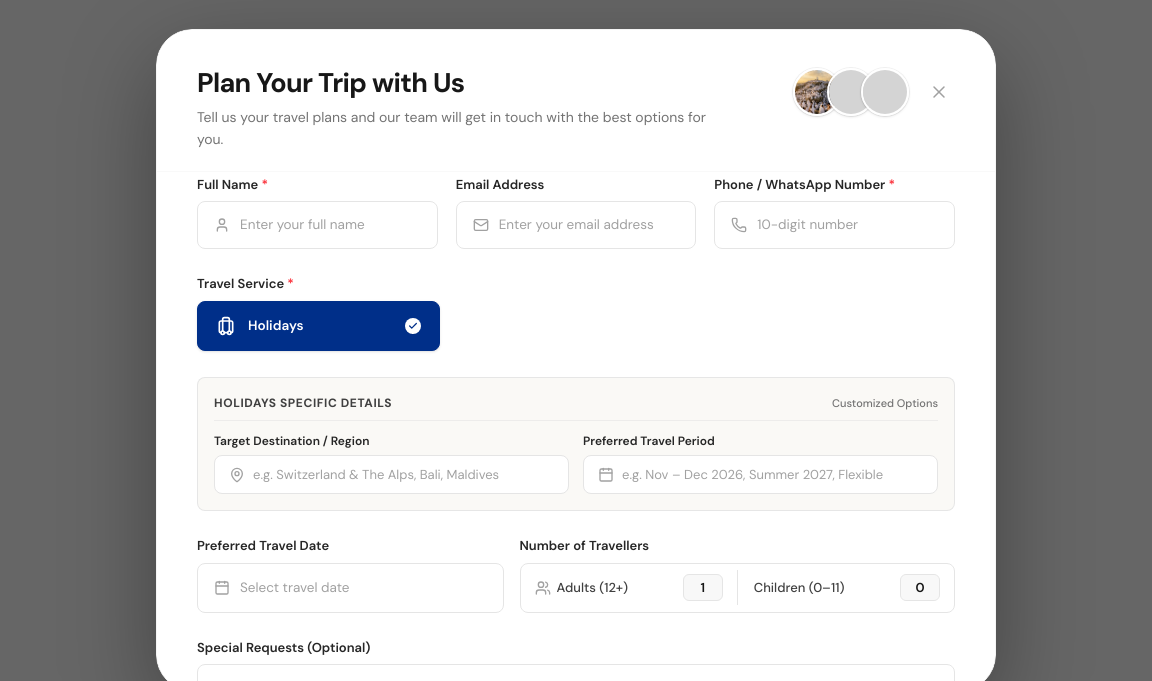
Scenario: public capture › rejects malformed success payloads instead of inventing a reference
Step 1. Type "  Ahmed Ali  " into the field labelled "Full Name *" → (330, 225), box x1=240 y1=216 x2=421 y2=234
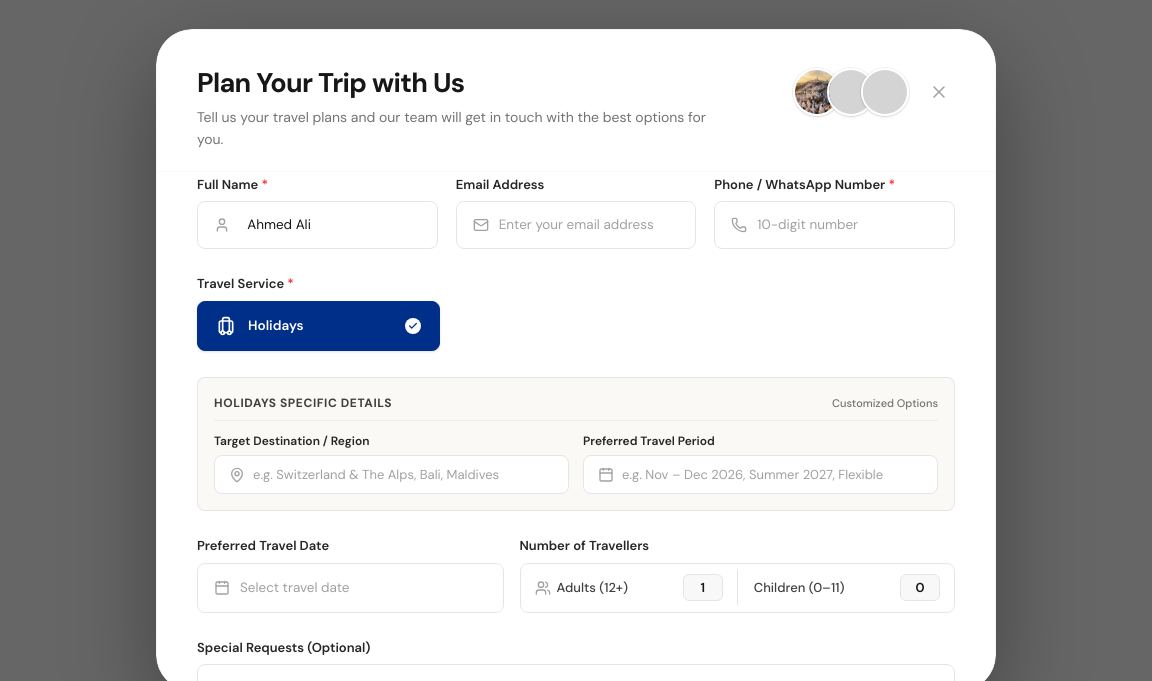
Step 2. Type "9876543210" into the field labelled "Phone / WhatsApp Number *" → (848, 225), box x1=757 y1=216 x2=938 y2=234
(page scrolled)
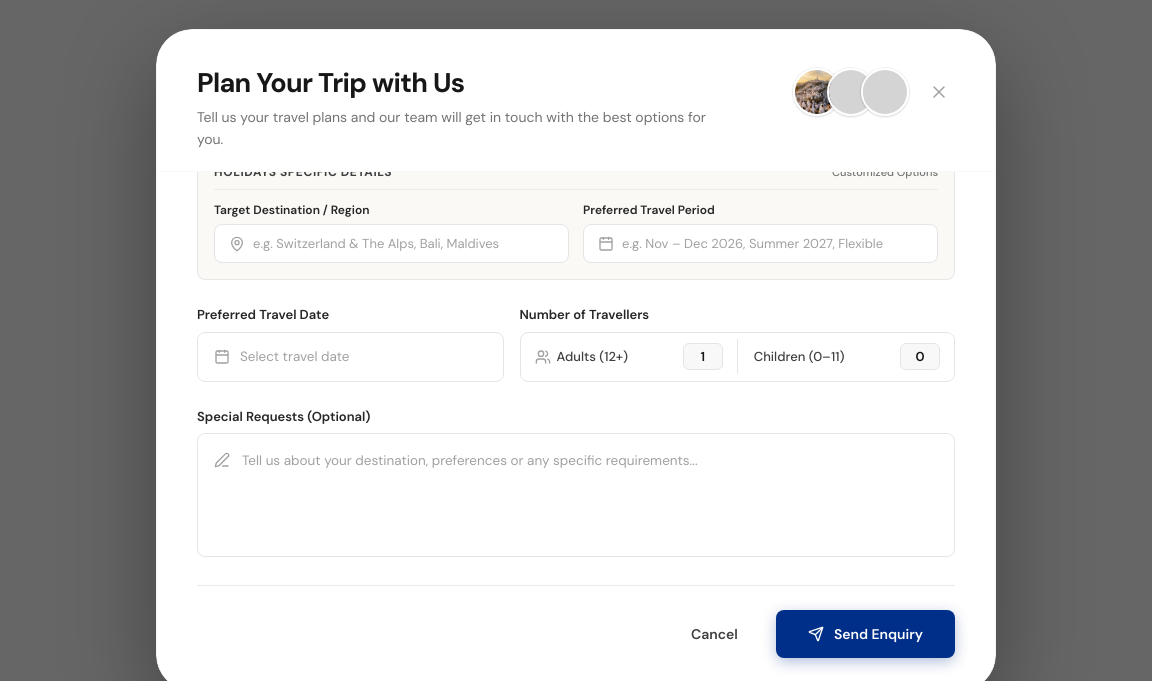
Step 3. Click the button with aria-label "Submit Travel Enquiry" → (865, 634), box x1=776 y1=610 x2=955 y2=658
(page scrolled)
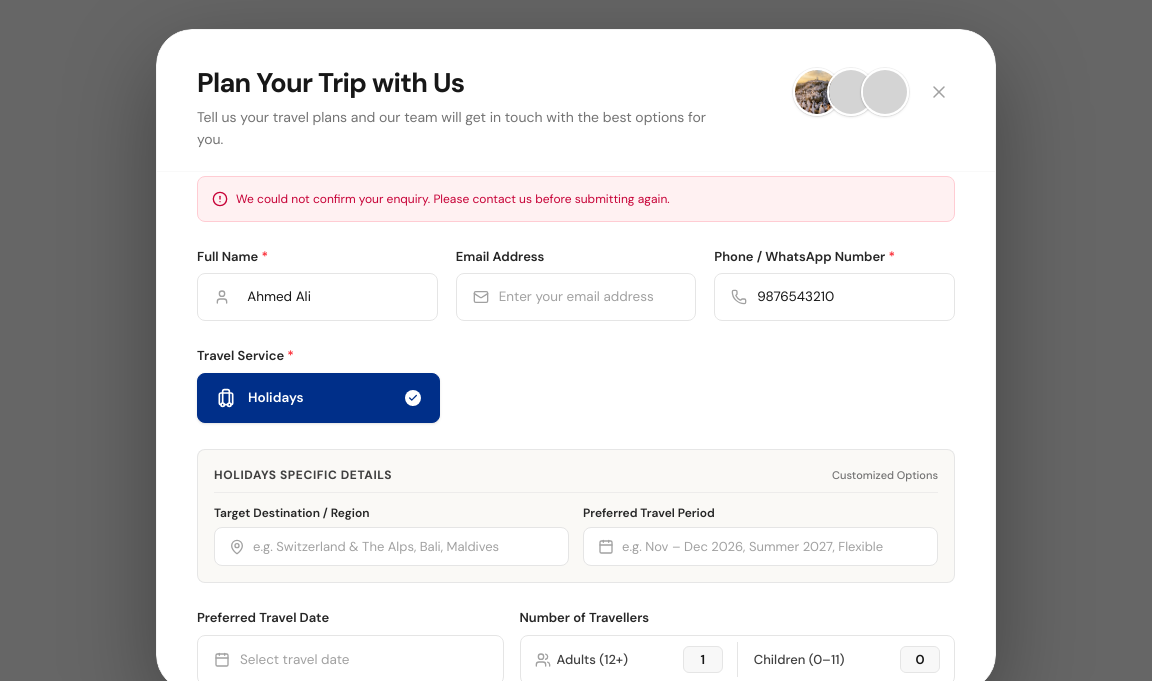
Expected: the text "We could not confirm your enquiry. Please contact us before submitting again." is shown, x1=236 y1=191 x2=670 y2=207
